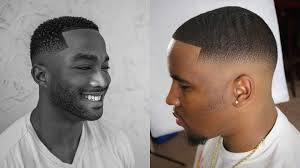black_male: (153, 6, 285, 151)
